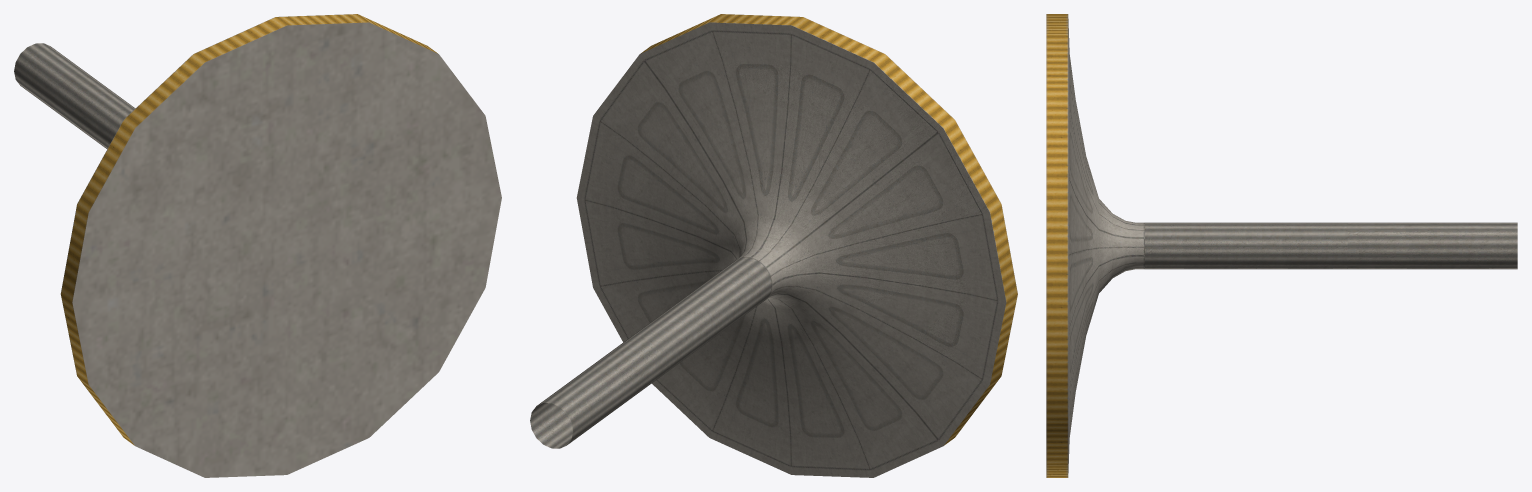
The model's file is nt_2020_vista_ufo_01_LOD0.obj.
3 views of the same model, side by side, from view 1: azimuth 30°, elevation 25°; view 2: azimuth 150°, elevation 25°; view 3: azimuth 270°, elevation 25° (orthographic). The views are drawn at different scales.
Visible parts, largest first — view 1: mtl_nt_2020_vista_ufo; view 2: mtl_nt_2020_vista_ufo; view 3: mtl_nt_2020_vista_ufo.
Boxes of the visible parts, x1,y1,x2,y2 form: mtl_nt_2020_vista_ufo: (14, 14, 501, 477); mtl_nt_2020_vista_ufo: (530, 14, 1017, 477); mtl_nt_2020_vista_ufo: (1046, 14, 1517, 477).
Bounding box in the file's own units: 1055 × 1055 × 1071.
